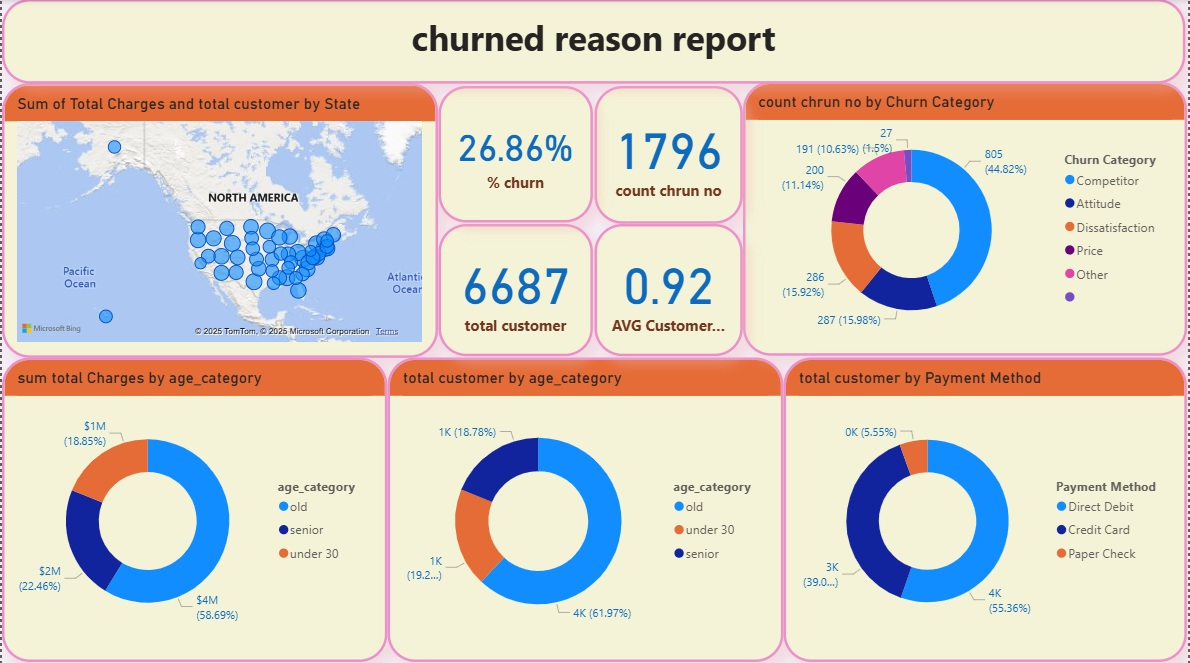

This screenshot's page, from the dashboard's own definition file:
{"tool":"powerbi","page":{"name":"overview","canvas":[1280,720],"ordinal":0},"visuals":[{"type":"map","fields":{"Category":["Databel - Data.State"],"Size":["Sum(Databel - Data.Total Charges)"]},"box":[0,90.7,470.6,296.7],"z":0},{"type":"donutChart","fields":{"Category":["Databel - Data.age_category"],"Y":["Databel - Data.sum total Charges"]},"box":[0,387,416.1,328.7],"z":1000},{"type":"donutChart","fields":{"Category":["Databel - Data.age_category"],"Y":["Databel - Data.total customer"]},"box":[415.8,387.4,427.1,328.8],"z":2000},{"type":"donutChart","fields":{"Category":["Databel - Data.Churn Category"],"Y":["Databel - Data.count chrun no"]},"box":[799.9,89.1,479.3,296.3],"z":3000},{"type":"donutChart","fields":{"Category":["Databel - Data.Payment Method"],"Y":["Databel - Data.total customer"]},"box":[843.6,387,435.6,328.7],"z":4000},{"type":"card","fields":{"Values":["Databel - Data.total customer"]},"box":[471.2,242.9,166.8,142.5],"z":5000},{"type":"card","fields":{"Values":["Databel - Data.count chrun no"]},"box":[639.6,93.9,160.3,149],"z":6000},{"type":"card","fields":{"Values":["Databel - Data.AVG Customer Service Call"]},"box":[639.6,242.9,160.3,142.5],"z":7000},{"type":"card","fields":{"Values":["Databel - Data.% churn"]},"box":[471.2,93.9,166.8,147.3],"z":8000},{"type":"textbox","box":[0,0,1277.5,91.1],"z":9000}]}

Visuals, with their boxes in screenshot pixels (x1, y1, x2, y2), scaled from the page's 1280x720 canvas onto the 1190x663 screenshot:
map - Databel - Data.State x Sum(Databel - Data.Total Charges): 0,84,438,357
donutChart - Databel - Data.age_category x Databel - Data.sum total Charges: 0,356,387,659
donutChart - Databel - Data.age_category x Databel - Data.total customer: 387,357,784,660
donutChart - Databel - Data.Churn Category x Databel - Data.count chrun no: 744,82,1189,355
donutChart - Databel - Data.Payment Method x Databel - Data.total customer: 784,356,1189,659
card - Databel - Data.total customer: 438,224,593,355
card - Databel - Data.count chrun no: 595,86,744,224
card - Databel - Data.AVG Customer Service Call: 595,224,744,355
card - Databel - Data.% churn: 438,86,593,222
textbox: 0,0,1188,84
